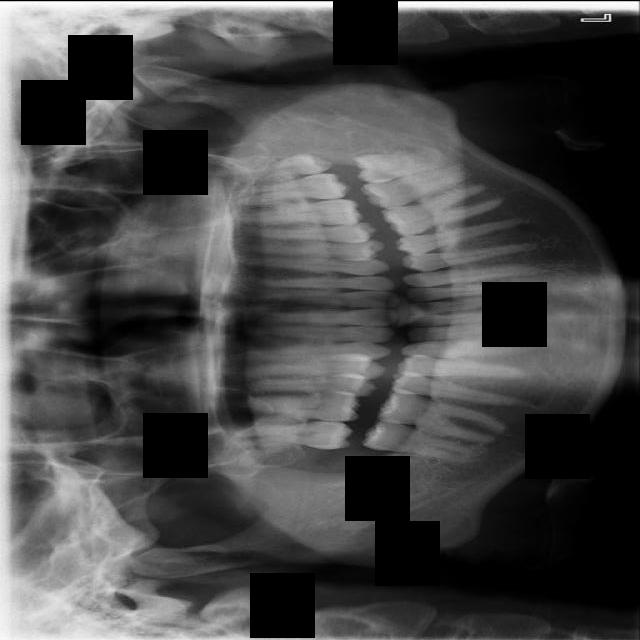73: (552, 60, 576, 70)
BioHorizons Implant: (231, 170, 350, 205)
BioLife Implant: (230, 148, 335, 186)
Biomet 3i Implant: (351, 142, 450, 187)
Blue Sky Bio Implant: (358, 160, 473, 215)
Caries: (223, 420, 352, 448)
Implant: (361, 416, 481, 465)
